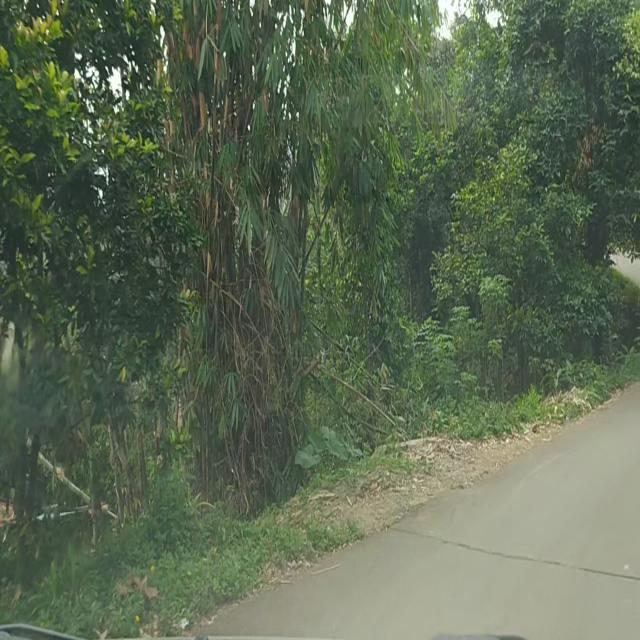Sewer Cover: (402, 522, 640, 586)
